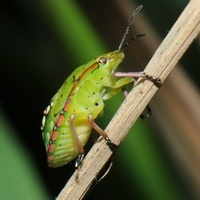insect: (41, 6, 141, 167)
